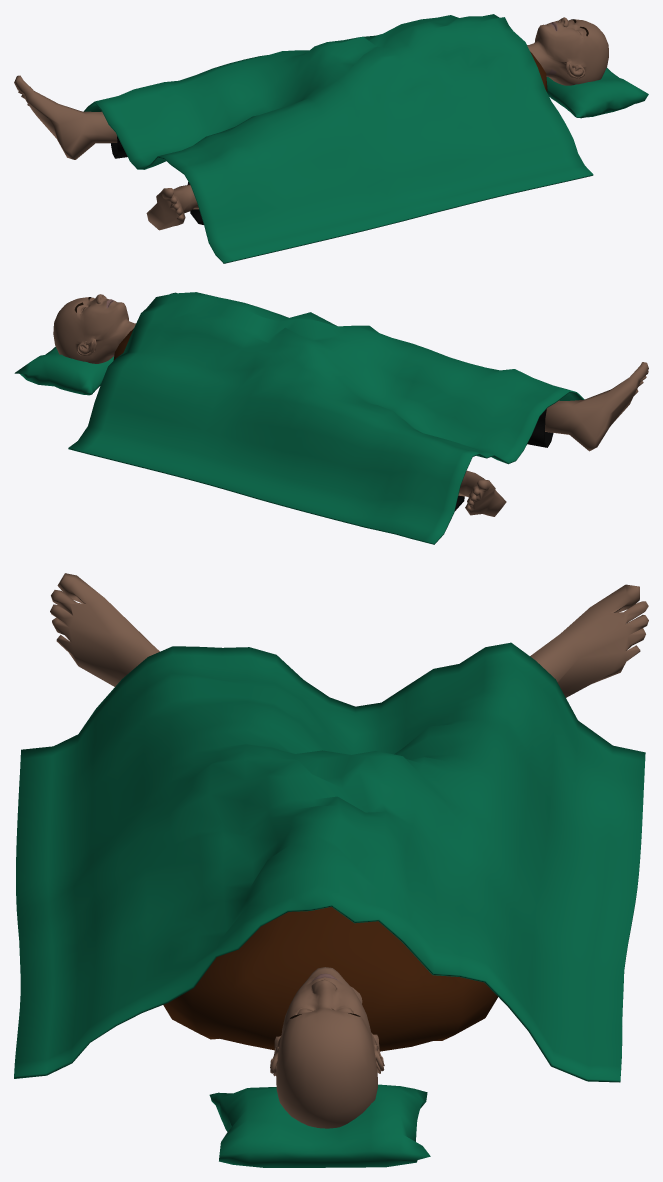
Rendered from operating-patient.fbx.
3 renders of one model, top to bottom at view 1: azimuth 30°, elevation 25°; view 2: azimuth 150°, elevation 25°; view 3: azimuth 270°, elevation 25°, orthographic. The views are drawn at different scales.
Parts seen in each view (by area): view 1: blacket.004; view 2: blacket.004; view 3: blacket.004.
Boxes of the visible parts, bbox=[...] form: blacket.004: bbox=[14, 14, 648, 263]; blacket.004: bbox=[14, 292, 648, 544]; blacket.004: bbox=[14, 573, 648, 1167].
Size of the model in its own units: 173 by 37.39 by 99.46.
